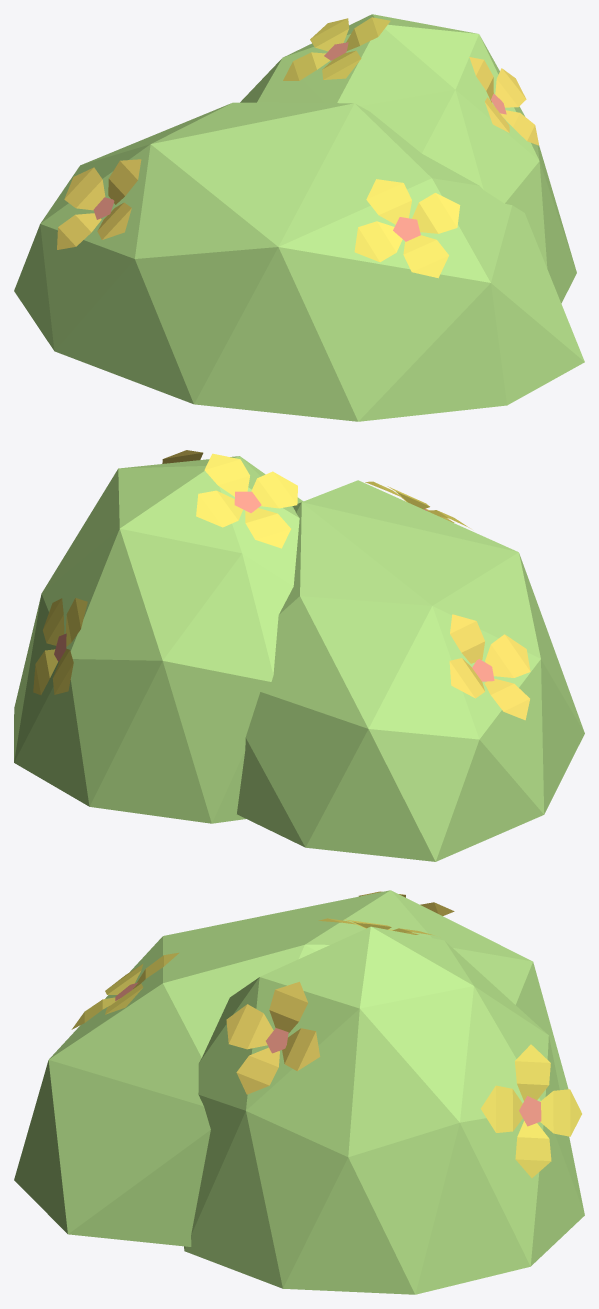
File: FlowerBush_e_m_01.fbx
3 views of the same model, one above another, from view 1: azimuth 30°, elevation 25°; view 2: azimuth 150°, elevation 25°; view 3: azimuth 270°, elevation 25° (orthographic). The views are drawn at different scales.
Parts seen in each view (by area): view 1: FlowerBush_e_m_01; view 2: FlowerBush_e_m_01; view 3: FlowerBush_e_m_01.
Part boxes in pixels (bbox=[...]): FlowerBush_e_m_01: bbox=[14, 14, 584, 421]; FlowerBush_e_m_01: bbox=[14, 450, 584, 861]; FlowerBush_e_m_01: bbox=[14, 890, 584, 1294].
Bounding box in the file's own units: 175 × 90.15 × 163.
